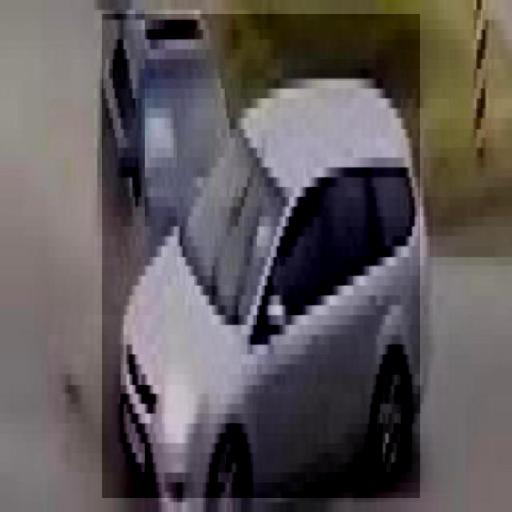小汽车撞小汽车: (102, 14, 420, 498)
